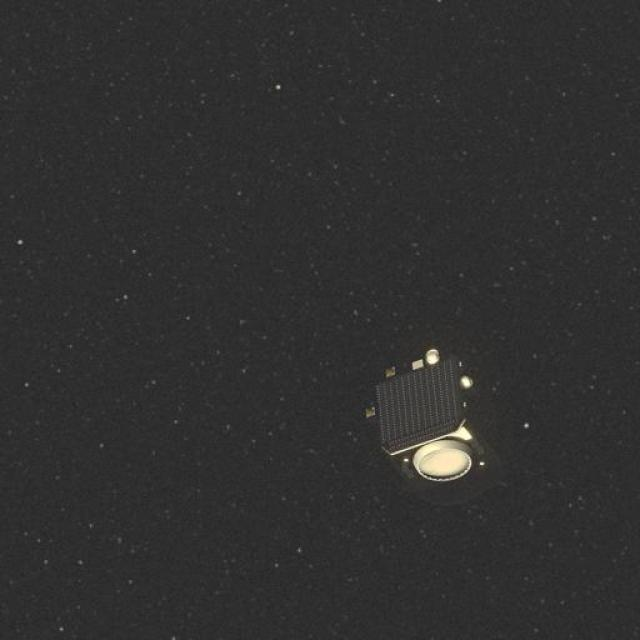proba_3_ocs: (365, 336, 501, 500)
